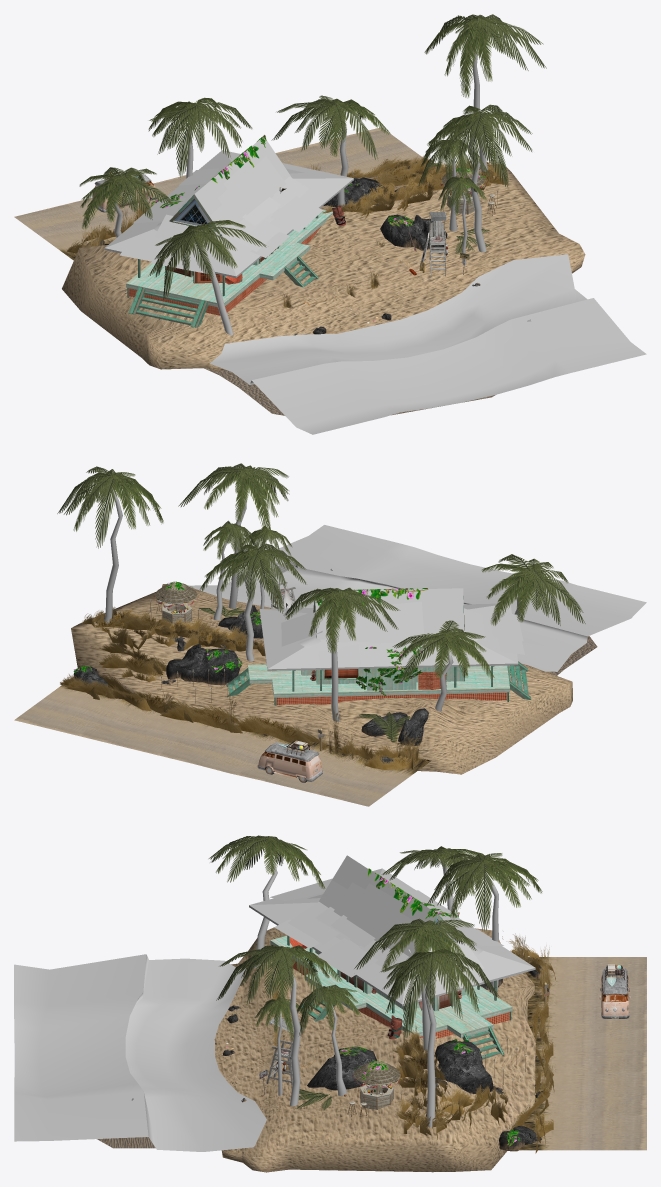
The picture shows the model from 3 angles, top to bottom: view 1: azimuth 30°, elevation 25°; view 2: azimuth 150°, elevation 25°; view 3: azimuth 270°, elevation 25°; orthographic projection. The views are drawn at different scales.
Visible parts, largest first — view 1: ocean_geo, beach_geo, road_geo, roof_geo, palmTree_08_geo, palmTree_06_geo, BeachHouseFloor_geo, palmTree_02_geo, palmTree_07_geo, palmTree_03_geo_props_surfboard_paddle:props_vegetation:leav, palmtree_01_geo, palmTree_05_geo (+14 smaller); view 2: beach_geo, ocean_geo, road_geo, roof_geo, palmTree_08_geo, BeachHouseFloor_geo, palmTree_03_geo_props_surfboard_paddle:props_vegetation:leav, palmTree_02_geo, palmTree_06_geo, palmTree_07_geo, palmtree_01_geo, rock_13_geo (+26 smaller); view 3: ocean_geo, beach_geo, road_geo, roof_geo, palmTree_08_geo, palmTree_06_geo, BeachHouseFloor_geo, palmTree_02_geo, palmTree_07_geo, palmTree_03_geo_props_surfboard_paddle:props_vegetation:leav, rock_13_geo, palmTree_05_geo (+17 smaller).
Part boxes in pixels (x1,y1,x2,y2): ocean_geo: (210, 254, 646, 434); beach_geo: (62, 166, 585, 371); road_geo: (14, 127, 422, 260); roof_geo: (104, 137, 353, 277); palmTree_08_geo: (424, 14, 546, 172); palmTree_06_geo: (422, 104, 532, 252); BeachHouseFloor_geo: (126, 209, 332, 307); palmTree_02_geo: (148, 97, 252, 178); palmTree_07_geo: (271, 95, 390, 206); palmTree_03_geo_props_surfboard_paddle:props_vegetation:leav: (148, 220, 266, 300); palmtree_01_geo: (79, 167, 173, 237); palmTree_05_geo: (418, 140, 490, 231); beach_geo: (71, 584, 572, 774); ocean_geo: (187, 525, 646, 671); road_geo: (14, 677, 431, 806); roof_geo: (259, 588, 518, 670); palmTree_08_geo: (57, 466, 163, 624); BeachHouseFloor_geo: (248, 664, 509, 697); palmTree_03_geo_props_surfboard_paddle:props_vegetation:leav: (481, 554, 585, 625); palmTree_02_geo: (283, 587, 400, 721); palmTree_06_geo: (178, 463, 289, 608); palmTree_07_geo: (199, 543, 306, 661); palmtree_01_geo: (392, 620, 494, 711); rock_13_geo: (166, 643, 241, 685); ocean_geo: (14, 954, 266, 1151); beach_geo: (214, 927, 535, 1172); road_geo: (506, 957, 646, 1150); roof_geo: (249, 855, 535, 1006); palmTree_08_geo: (380, 948, 499, 1127); palmTree_06_geo: (216, 945, 342, 1106); BeachHouseFloor_geo: (270, 935, 512, 1037); palmTree_02_geo: (427, 853, 542, 994); palmTree_07_geo: (354, 918, 476, 1050); palmTree_03_geo_props_surfboard_paddle:props_vegetation:leav: (208, 835, 325, 888); rock_13_geo: (435, 1040, 493, 1093); palmTree_05_geo: (297, 984, 360, 1095).
Bounding box in the file's own units: 2.03 × 0.8544 × 2.22.
